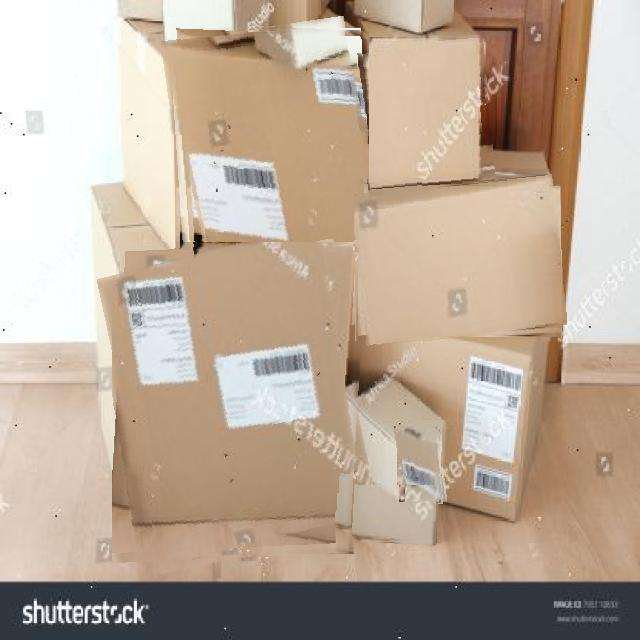BoxFace: (112, 242, 368, 564), (168, 22, 369, 270), (354, 179, 563, 341), (357, 36, 492, 189), (353, 485, 438, 544), (397, 420, 445, 505)
